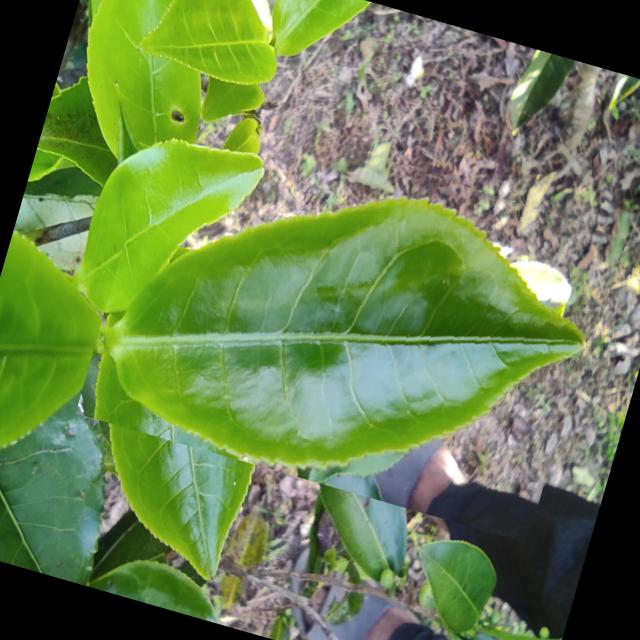Category B 2-4 days: (75, 86, 632, 546)
